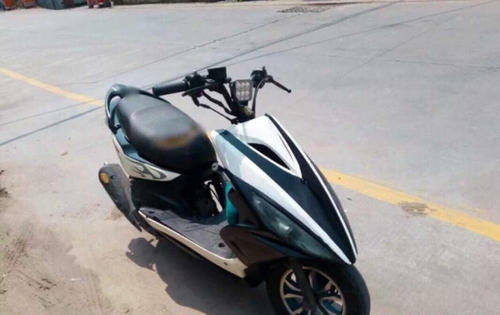motor: (85, 61, 376, 314)
